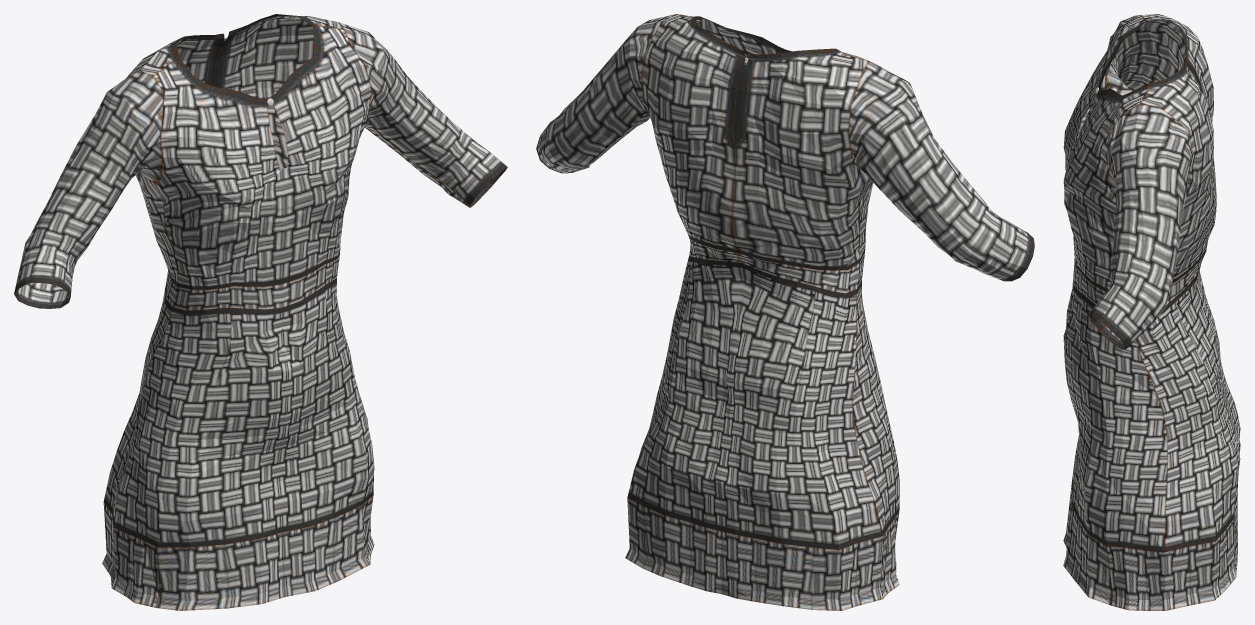
File: mhw_mindfront_f_dress_11.glb
The picture shows the model from 3 angles, left to right: view 1: azimuth 30°, elevation 25°; view 2: azimuth 150°, elevation 25°; view 3: azimuth 270°, elevation 25°; orthographic projection. The views are drawn at different scales.
Parts seen in each view (by area): view 1: mhw_mindfront_f_dress_11; view 2: mhw_mindfront_f_dress_11; view 3: mhw_mindfront_f_dress_11.
Boxes of the visible parts, left/top/right/bottom form: mhw_mindfront_f_dress_11: left=14, top=14, right=507, bottom=610; mhw_mindfront_f_dress_11: left=536, top=14, right=1034, bottom=610; mhw_mindfront_f_dress_11: left=1063, top=14, right=1240, bottom=610.
Size of the model in its own units: 0.9217 by 0.9587 by 0.3032.
Materials: 1 (1 with a texture image).
